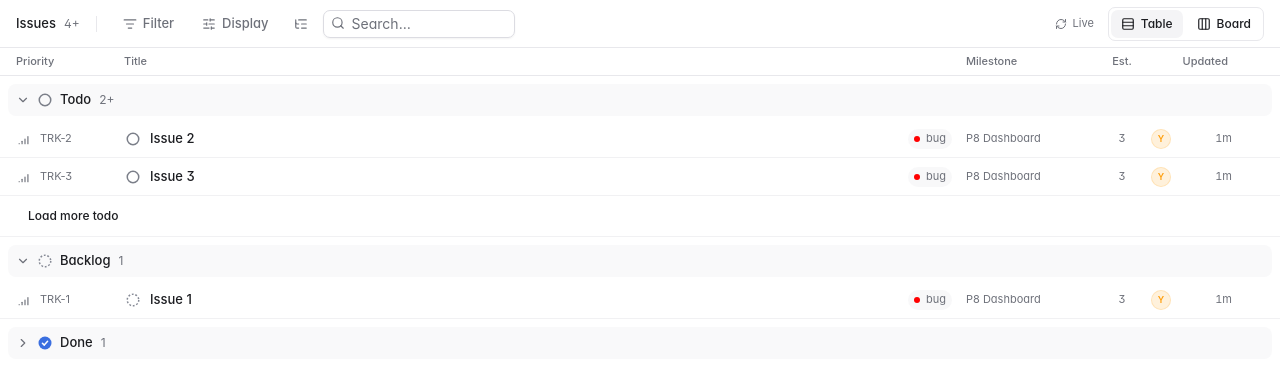
Test: IssuesView table › shows an error when loading more fails
The width and height of the screenshot is (1280, 367).
What coordinates should you click on to do the following:
click the button "Load more todo"
I would click on:
 (73, 216)
Its box is x1=16 y1=202 x2=130 y2=230.
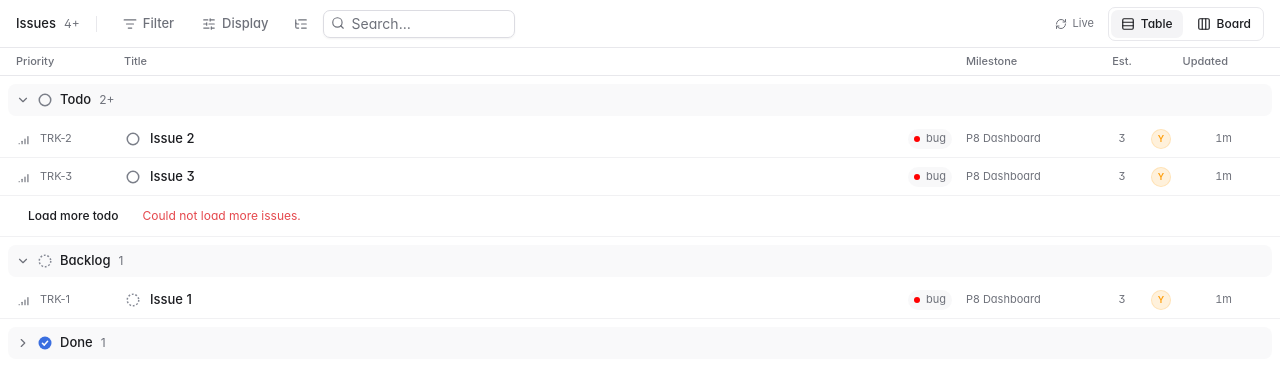
Now the message shows "Could not load more", box x1=142 y1=208 x2=301 y2=223
